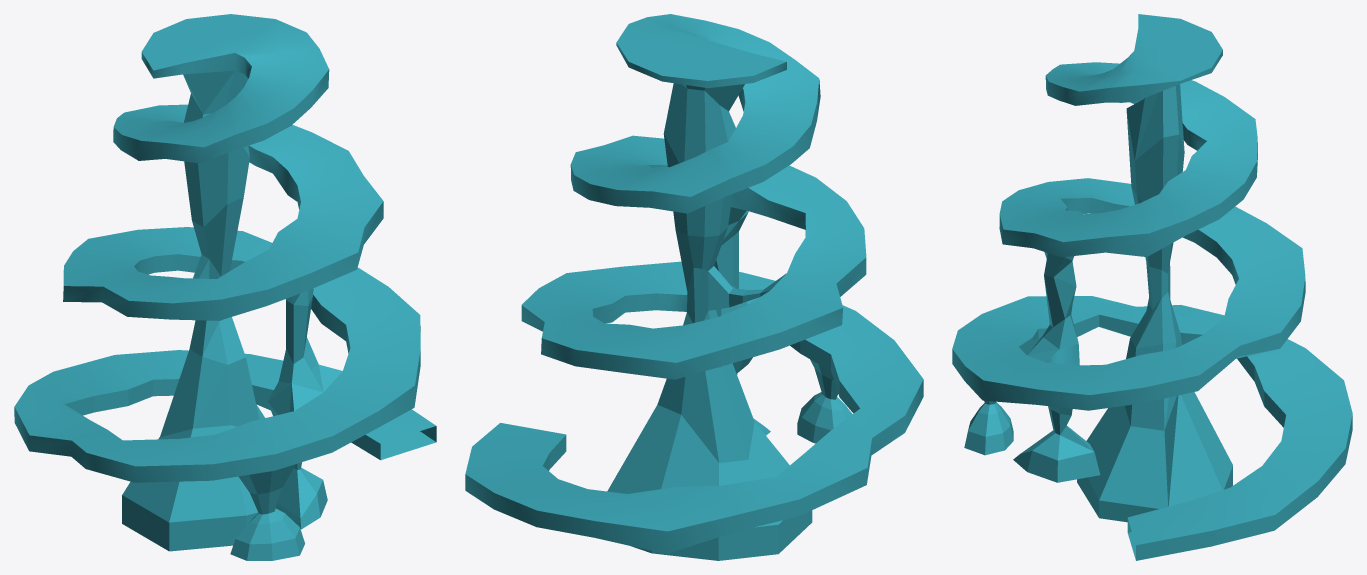
File: SM_IceSpiral.FBX
3 views of the same model, side by side, from view 1: azimuth 30°, elevation 25°; view 2: azimuth 150°, elevation 25°; view 3: azimuth 270°, elevation 25° (orthographic). The views are drawn at different scales.
Visible parts, largest first — view 1: Cylinder002; view 2: Cylinder002; view 3: Cylinder002.
Boxes of the visible parts, x1=… form: Cylinder002: x1=14, y1=14, x2=436, y2=560; Cylinder002: x1=465, y1=14, x2=923, y2=560; Cylinder002: x1=952, y1=14, x2=1352, y2=560.
Size of the model in its own units: 12.16 by 14.09 by 11.61.
